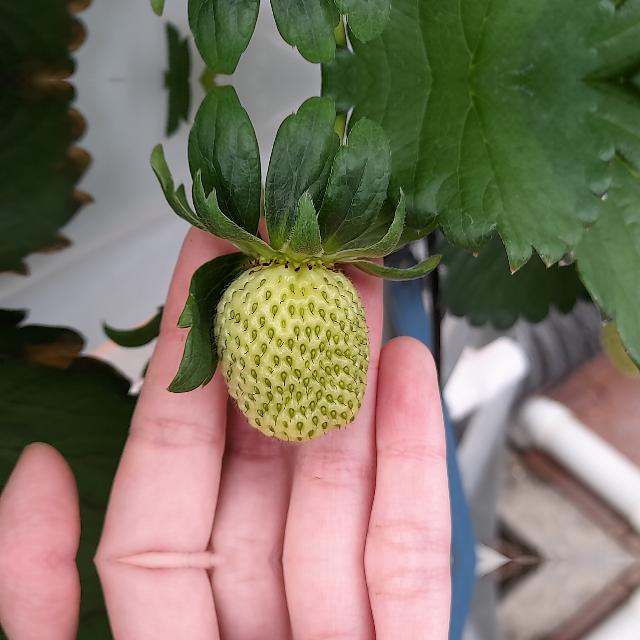Health_25: (213, 264, 369, 442)
